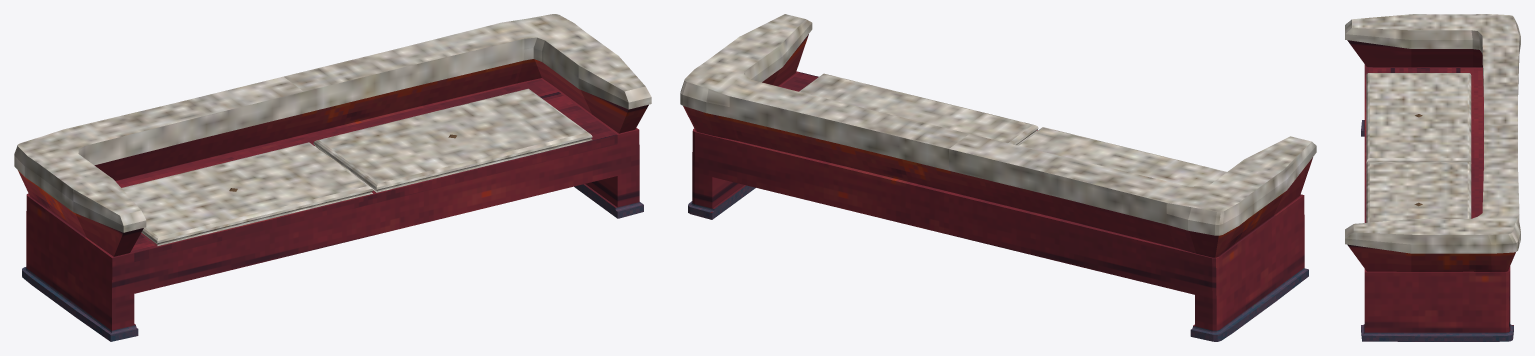
File: Sofa.fbx
3 renders of one model, left to right at view 1: azimuth 30°, elevation 25°; view 2: azimuth 150°, elevation 25°; view 3: azimuth 270°, elevation 25°, orthographic. The views are drawn at different scales.
Parts seen in each view (by area): view 1: Cube; view 2: Cube; view 3: Cube.
Boxes of the visible parts, box(x1,y1,x2,y2) form: Cube: box(14, 14, 651, 341); Cube: box(680, 14, 1316, 341); Cube: box(1345, 14, 1520, 341).
Size of the model in its own units: 7.22 by 1.66 by 2.41.
Materials: 5 (4 with a texture image).
